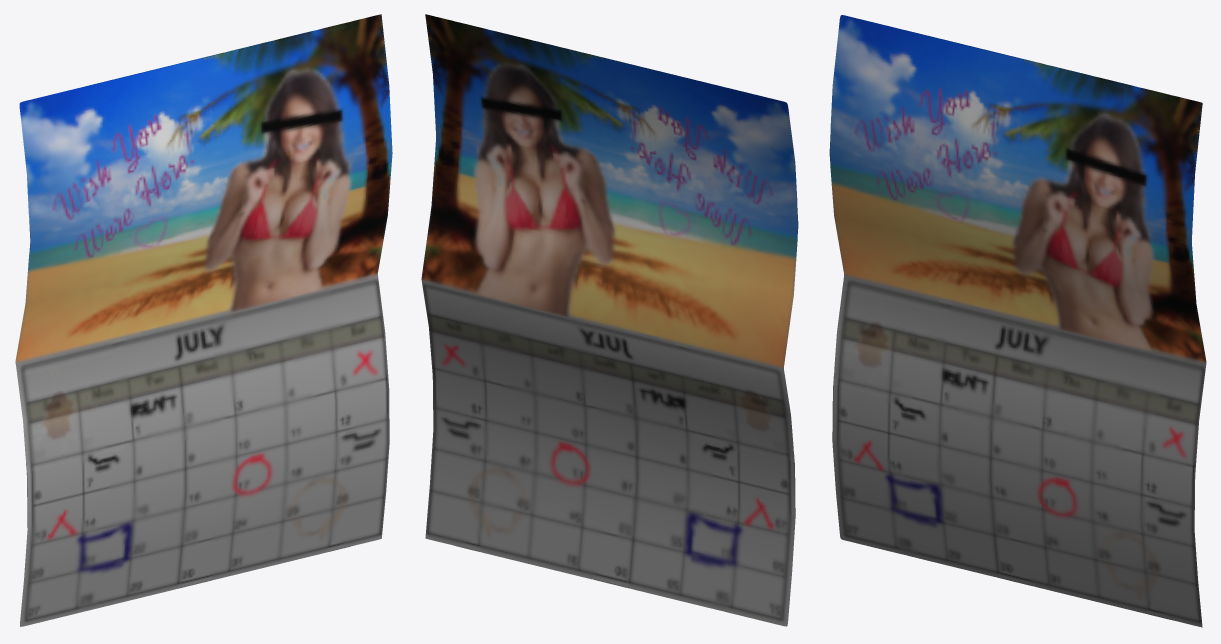
The model's file is calendar.FBX.
3 views of the same model, side by side, from view 1: azimuth 30°, elevation 25°; view 2: azimuth 150°, elevation 25°; view 3: azimuth 330°, elevation 25° (orthographic).
Parts seen in each view (by area): view 1: calendar; view 2: calendar; view 3: calendar.
Part boxes in pixels (bbox=[...]): calendar: bbox=[15, 14, 392, 626]; calendar: bbox=[421, 14, 798, 626]; calendar: bbox=[829, 15, 1206, 627].
Size of the model in its own units: 36.45 by 50.55 by 2.56.
